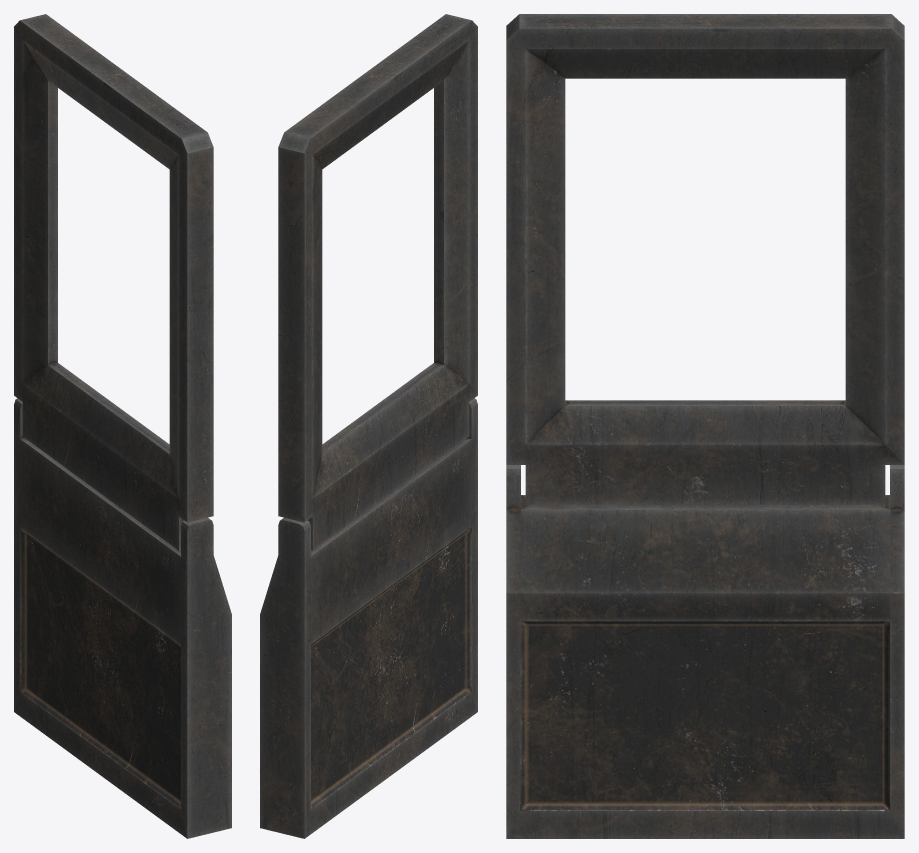
Rendered from MetalFrame.FBX.
The picture shows the model from 3 angles, left to right: view 1: azimuth 30°, elevation 25°; view 2: azimuth 150°, elevation 25°; view 3: azimuth 270°, elevation 25°; orthographic projection. The views are drawn at different scales.
Parts seen in each view (by area): view 1: MetalFrame; view 2: MetalFrame; view 3: MetalFrame.
Boxes of the visible parts, x1,y1,x2,y2 form: MetalFrame: (14, 14, 231, 838); MetalFrame: (260, 14, 477, 838); MetalFrame: (506, 14, 904, 838).
Bounding box in the file's own units: 10.32 × 154 × 69.67.
Materials: 1 (1 with a texture image).
